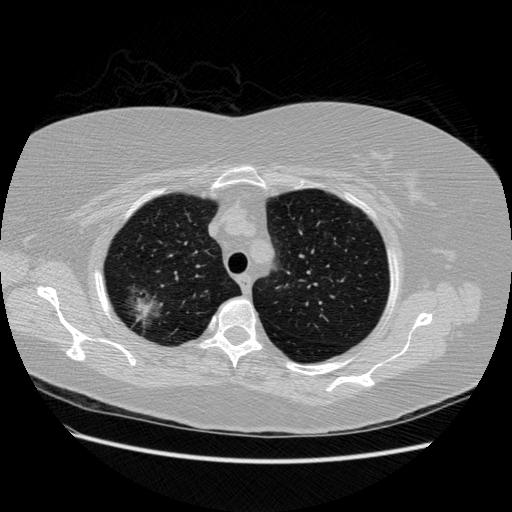nodule: (125, 290, 161, 326)
